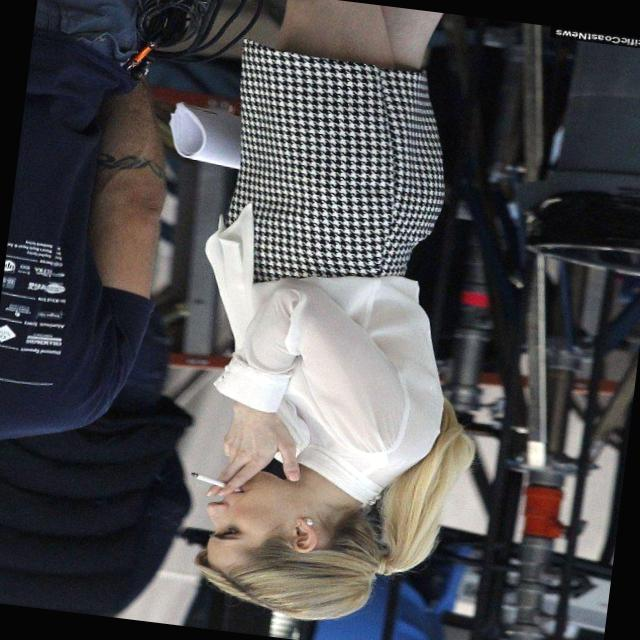smoke: (180, 467, 242, 506)
